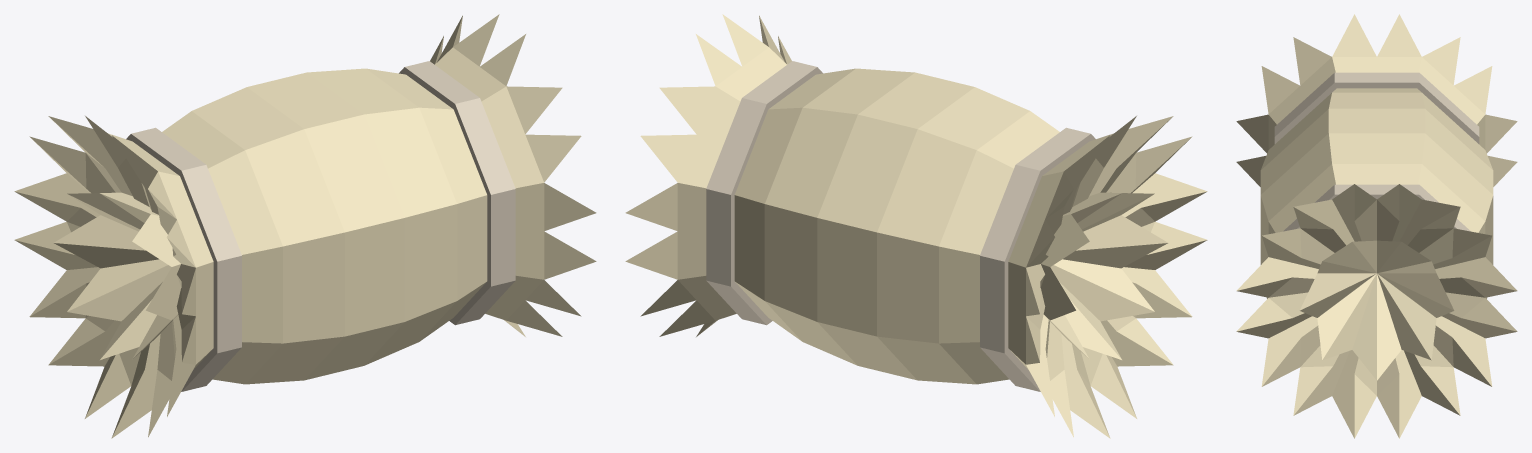
The model's file is Prop_Hay_1.glb.
The picture shows the model from 3 angles, left to right: view 1: azimuth 30°, elevation 25°; view 2: azimuth 150°, elevation 25°; view 3: azimuth 270°, elevation 25°; orthographic projection. The views are drawn at different scales.
Parts seen in each view (by area): view 1: Prop_Hay_1; view 2: Prop_Hay_1; view 3: Prop_Hay_1.
Boxes of the visible parts, box(x1,y1,x2,y2) form: Prop_Hay_1: box(14, 14, 596, 438); Prop_Hay_1: box(625, 14, 1207, 438); Prop_Hay_1: box(1236, 14, 1517, 438).
Bounding box in the file's own units: 0.4169 × 0.292 × 0.292.
